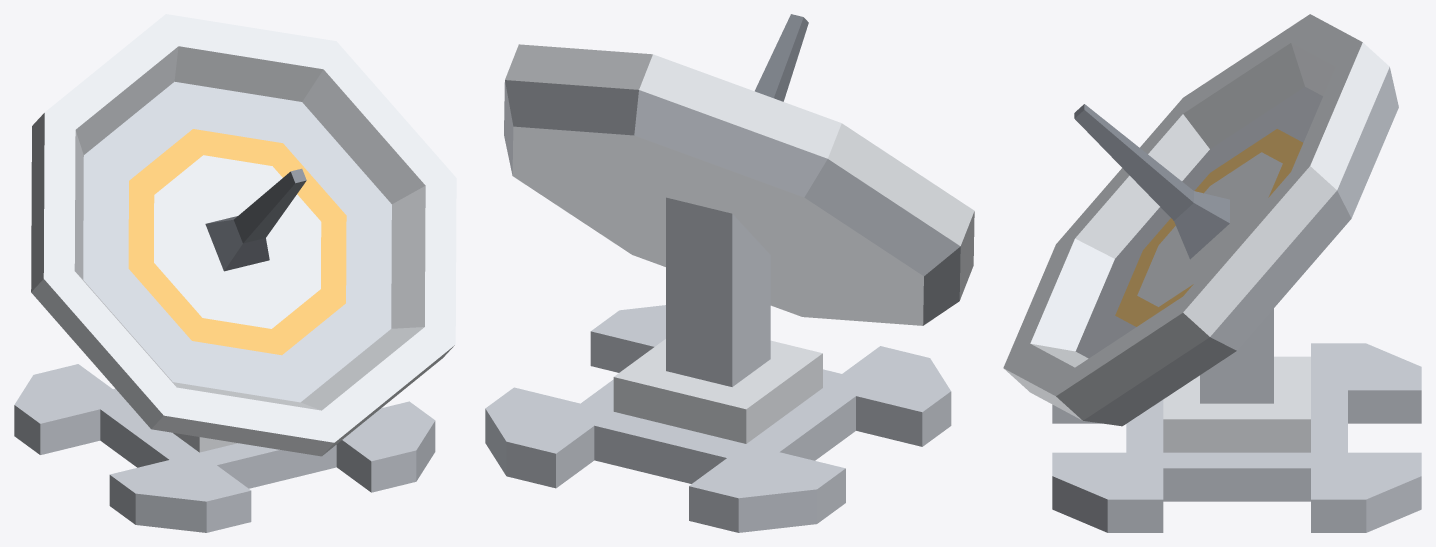
File: satelliteDish.glb
3 renders of one model, left to right at view 1: azimuth 30°, elevation 25°; view 2: azimuth 150°, elevation 25°; view 3: azimuth 270°, elevation 25°, orthographic. The views are drawn at different scales.
Visible parts, largest first — view 1: satelliteDish; view 2: satelliteDish; view 3: satelliteDish.
Boxes of the visible parts, bbox=[...] form: satelliteDish: bbox=[14, 14, 456, 532]; satelliteDish: bbox=[485, 14, 974, 532]; satelliteDish: bbox=[1003, 14, 1421, 532].
Bounding box in the file's own units: 0.6884 × 0.6165 × 0.5665.
